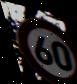Speed Limit -60-: (8, 10, 77, 84)
